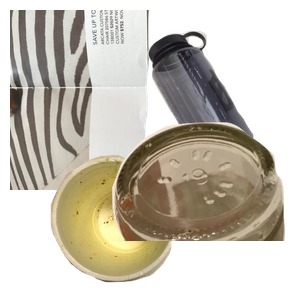glass: (89, 120, 300, 300)
paper: (10, 10, 250, 190)
plastic: (145, 28, 300, 192)
trash: (48, 152, 219, 300)
